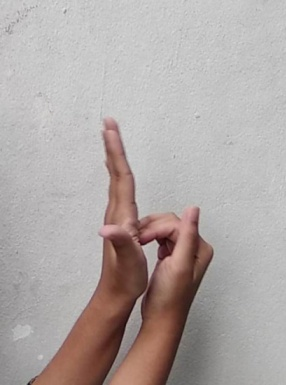ga: (84, 107, 219, 326)
